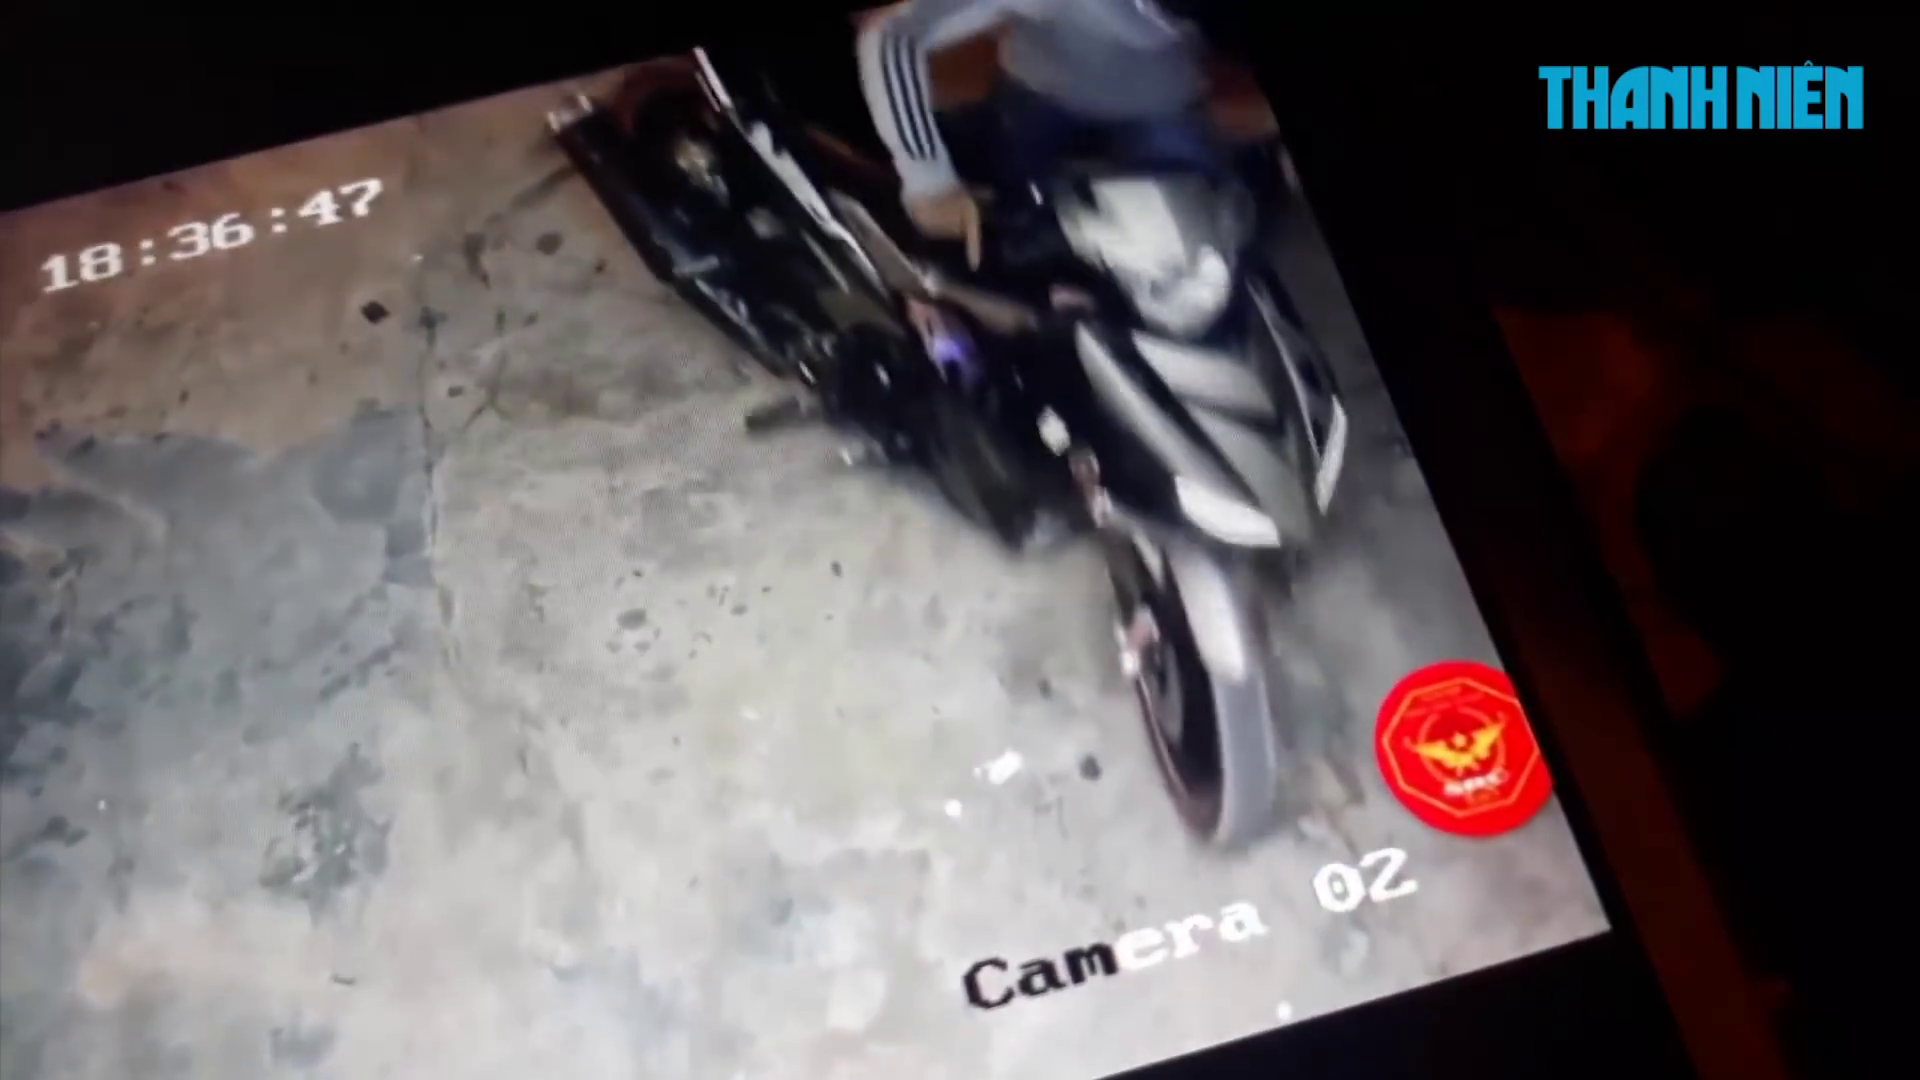Motorcycle: (547, 4, 1358, 853)
